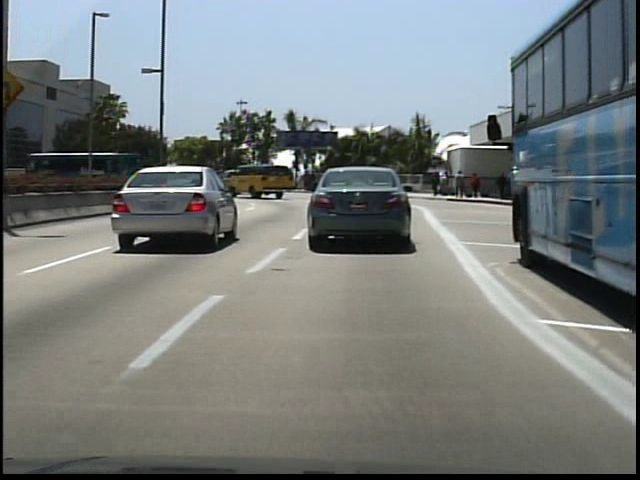person: (468, 168, 485, 200), (453, 168, 468, 200), (495, 168, 509, 199), (230, 167, 246, 192), (429, 170, 443, 198)
